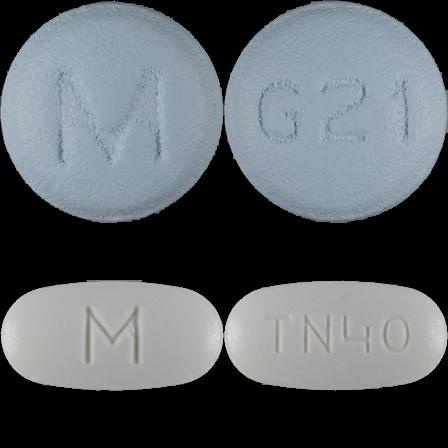0378-2721: (0, 0, 224, 224)
